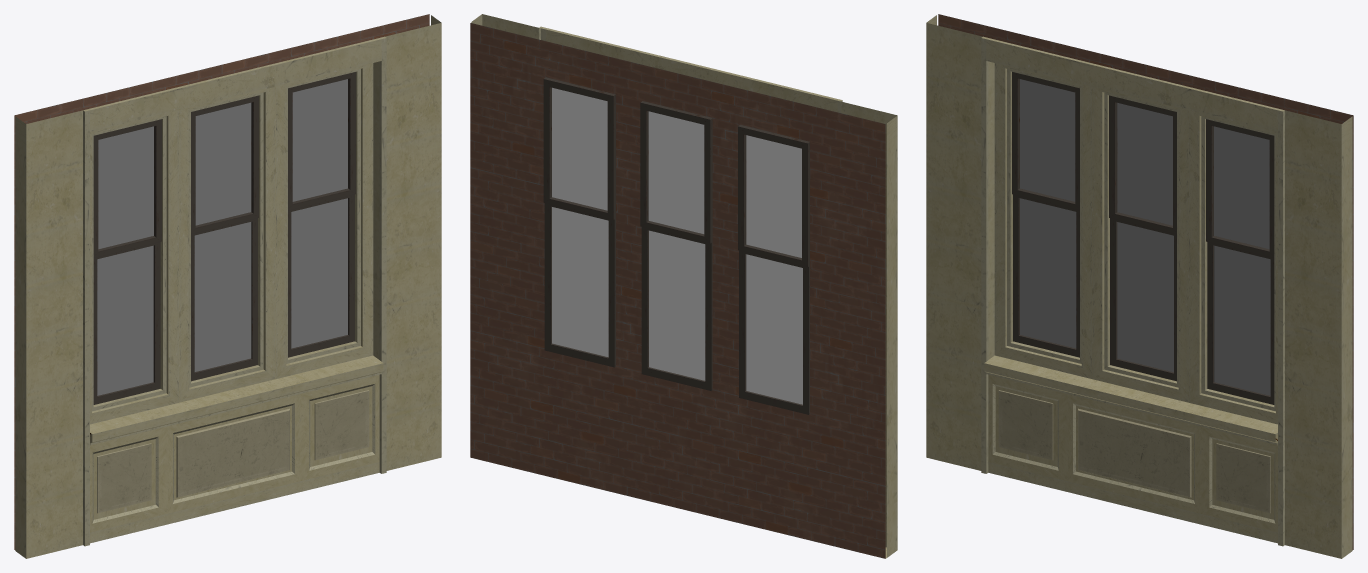
The model's file is Marble_WindowTriple.gltf.
The picture shows the model from 3 angles, left to right: view 1: azimuth 30°, elevation 25°; view 2: azimuth 150°, elevation 25°; view 3: azimuth 330°, elevation 25°; orthographic projection.
Visible parts, largest first — view 1: Marble_WindowTriple; view 2: Marble_WindowTriple; view 3: Marble_WindowTriple.
Part boxes in pixels (x1=…): Marble_WindowTriple: x1=14, y1=14, x2=441, y2=558; Marble_WindowTriple: x1=470, y1=14, x2=897, y2=558; Marble_WindowTriple: x1=926, y1=14, x2=1353, y2=558.
Size of the model in its own units: 4 by 4 by 0.3045.
Materials: 6 (4 with a texture image).
